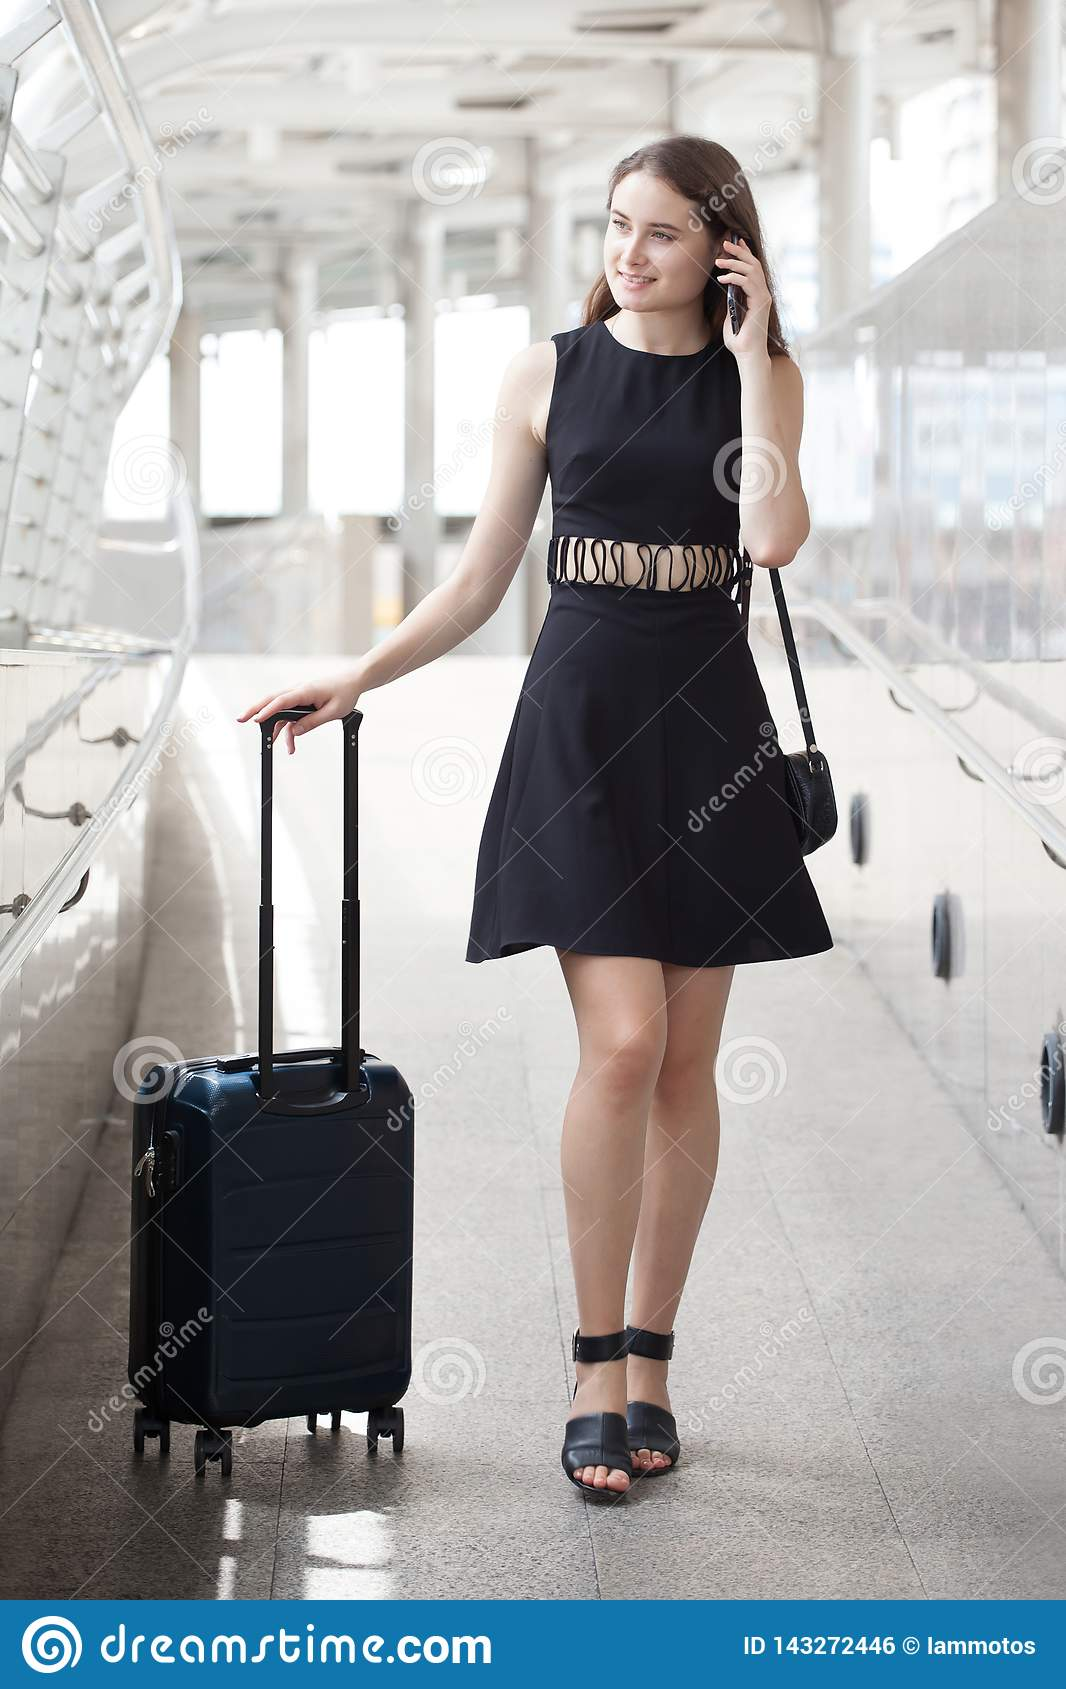person: (244, 137, 810, 1496)
